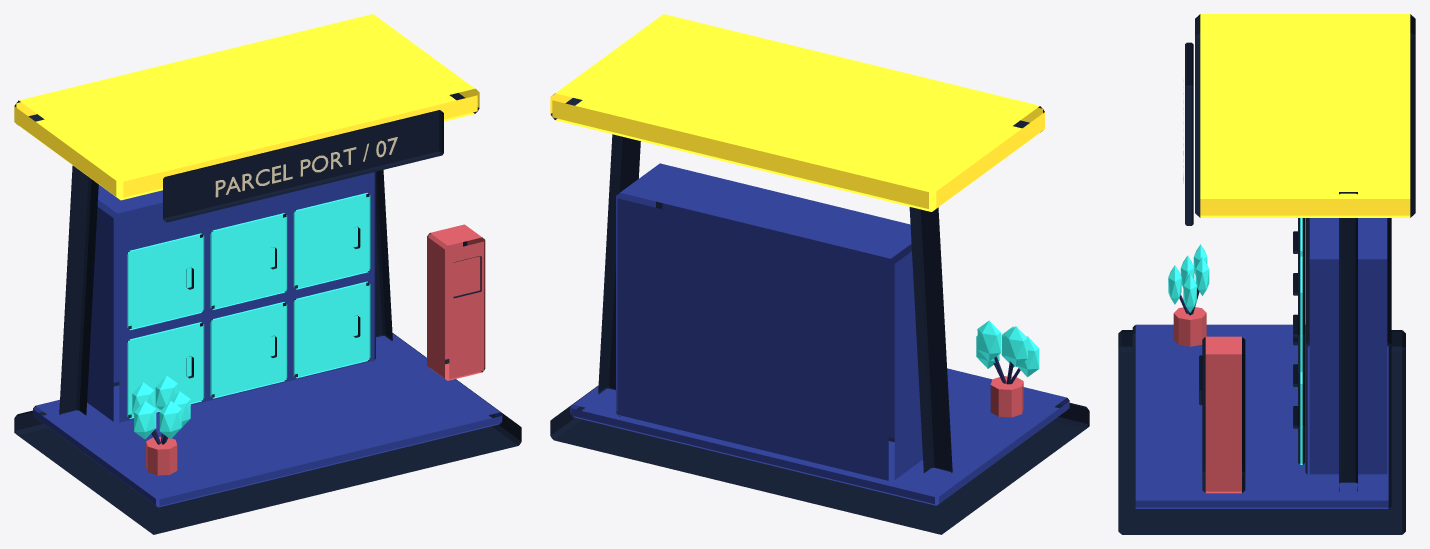
File: destination_kiosk.glb
3 renders of one model, left to right at view 1: azimuth 30°, elevation 25°; view 2: azimuth 150°, elevation 25°; view 3: azimuth 270°, elevation 25°, orthographic. The views are drawn at different scales.
Visible parts, largest first — view 1: destination_kiosk_Static; view 2: destination_kiosk_Static; view 3: destination_kiosk_Static.
Part boxes in pixels (<box>): destination_kiosk_Static: <box>14,14,521,534</box>; destination_kiosk_Static: <box>550,14,1089,534</box>; destination_kiosk_Static: <box>1118,14,1415,534</box>.
Bounding box in the file's own units: 4.65 × 3.92 × 3.1.
